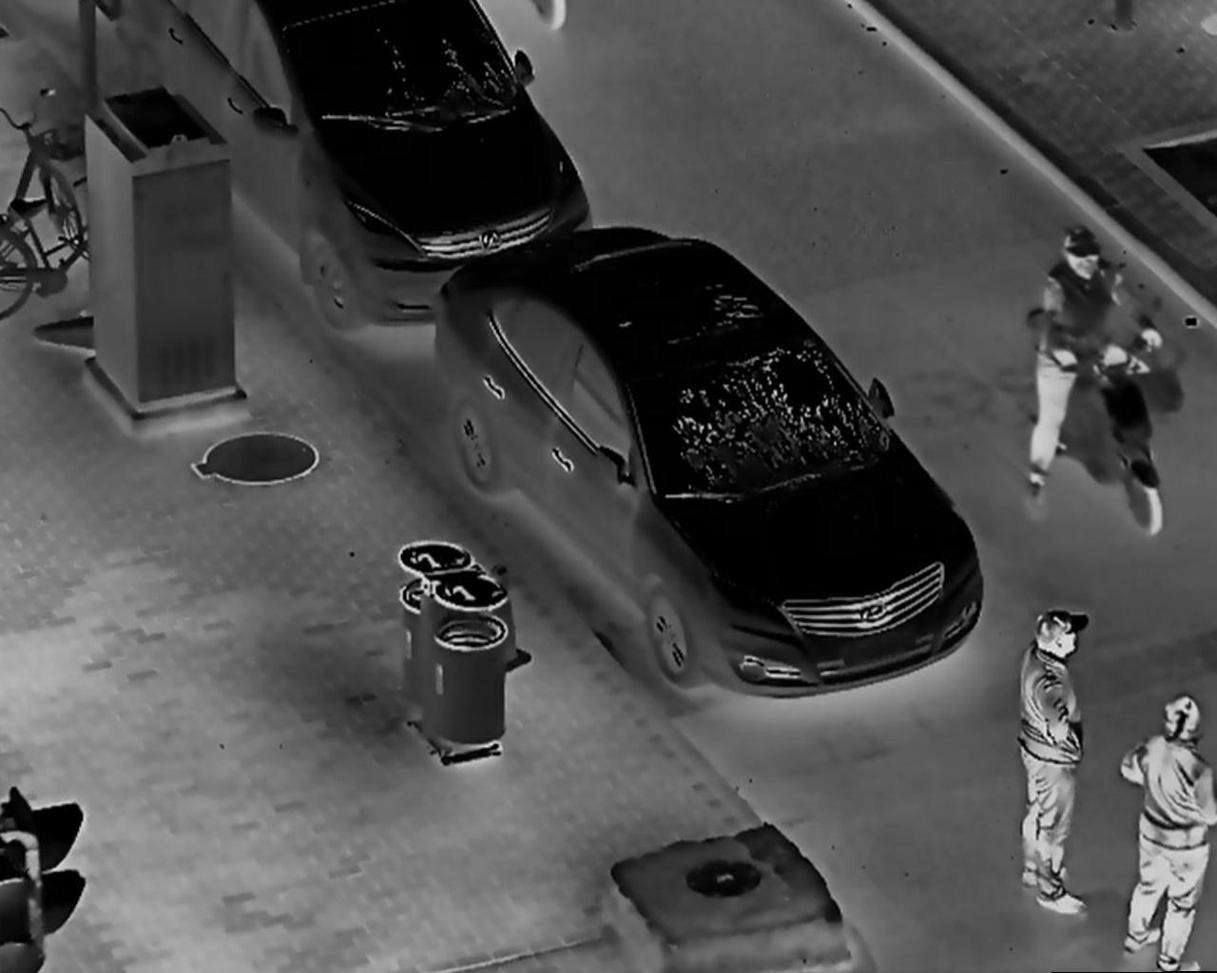person: (1025, 228, 1164, 496), (1105, 693, 1215, 973), (1013, 609, 1097, 915)
